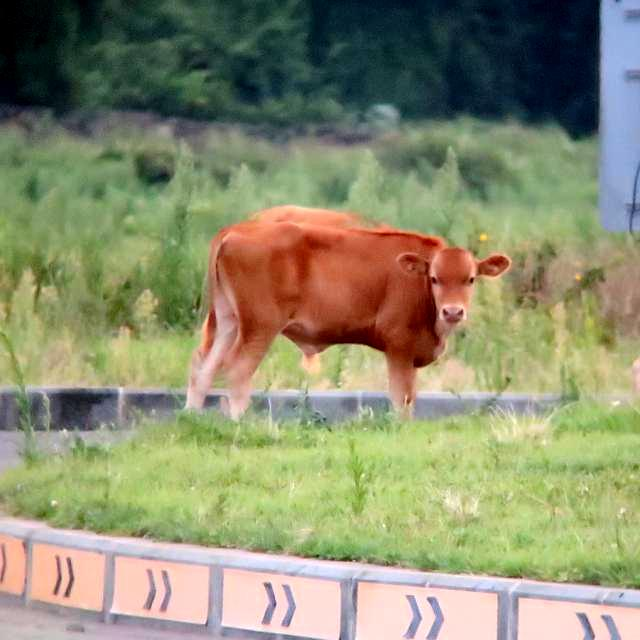COW: (186, 206, 510, 418)
